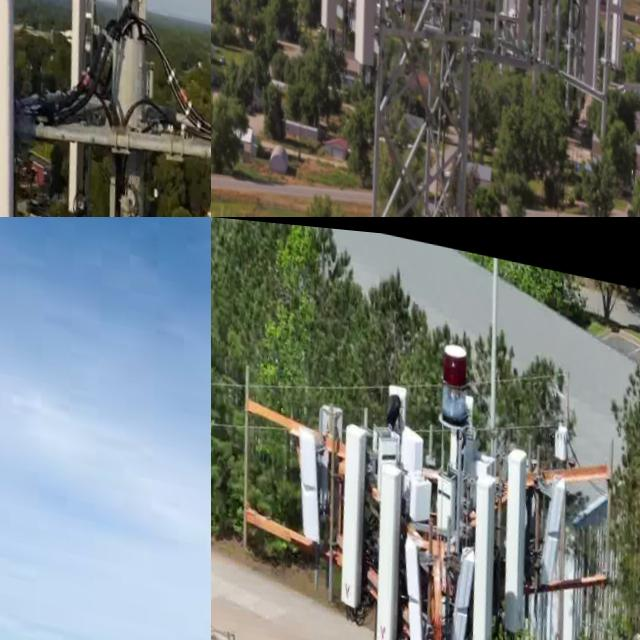GSM Antenna: (31, 0, 113, 217), (478, 429, 544, 637), (315, 412, 382, 614), (348, 453, 418, 640), (443, 457, 508, 640), (543, 0, 633, 99), (274, 413, 327, 544), (321, 0, 414, 68), (510, 0, 581, 88), (381, 518, 432, 640), (109, 0, 162, 111), (480, 0, 559, 63), (587, 0, 640, 66), (398, 458, 434, 522)
